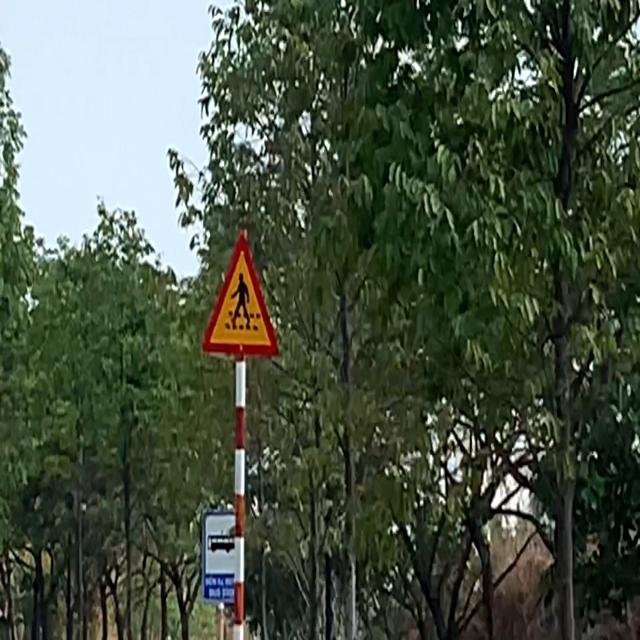W.224: (200, 230, 282, 362)
